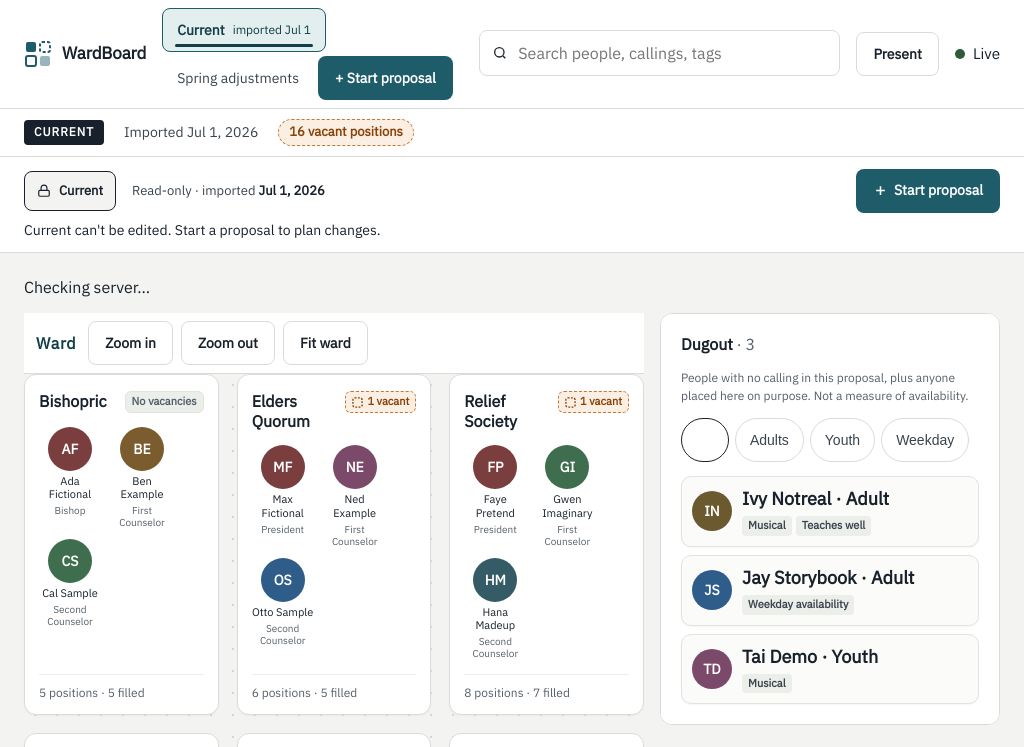
board-levels and removed markers › Aaronic board group renders AaronicView at level 2; others render OrganizationView
Click the tab "Spring adjustments" at [238, 78], box [162,56,314,100]
(page scrolled)
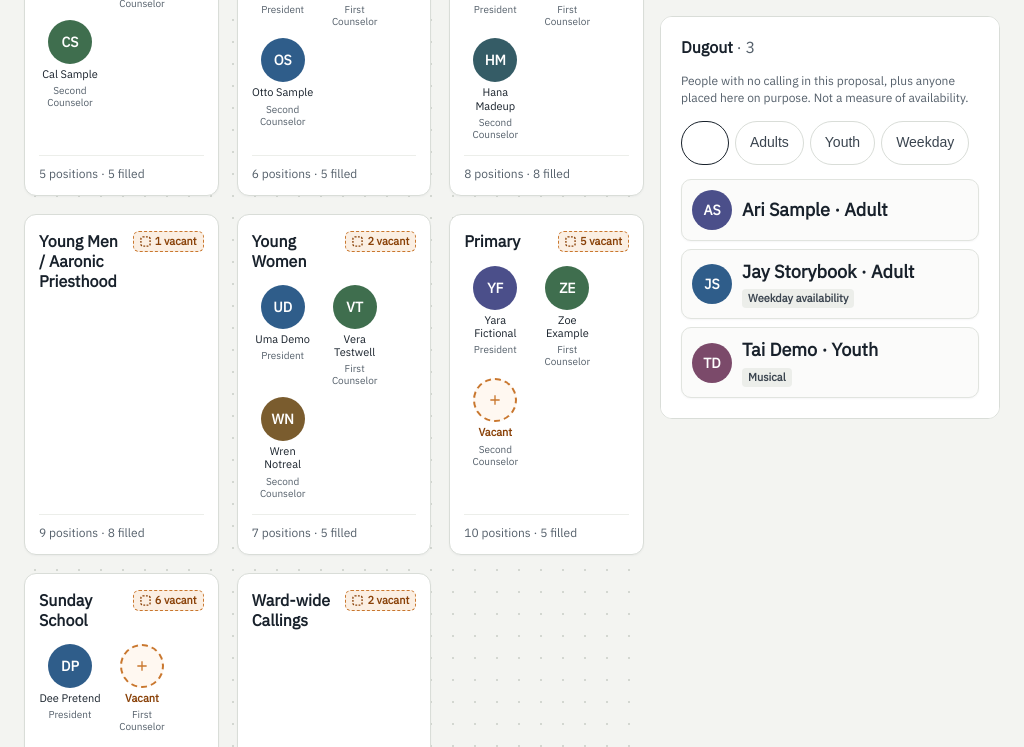
// Zoom into Aaronic Priesthood
Double-click the element "Young Men / Aaronic Priesthood" at [121, 384], box [24,214,219,555]
(page scrolled)
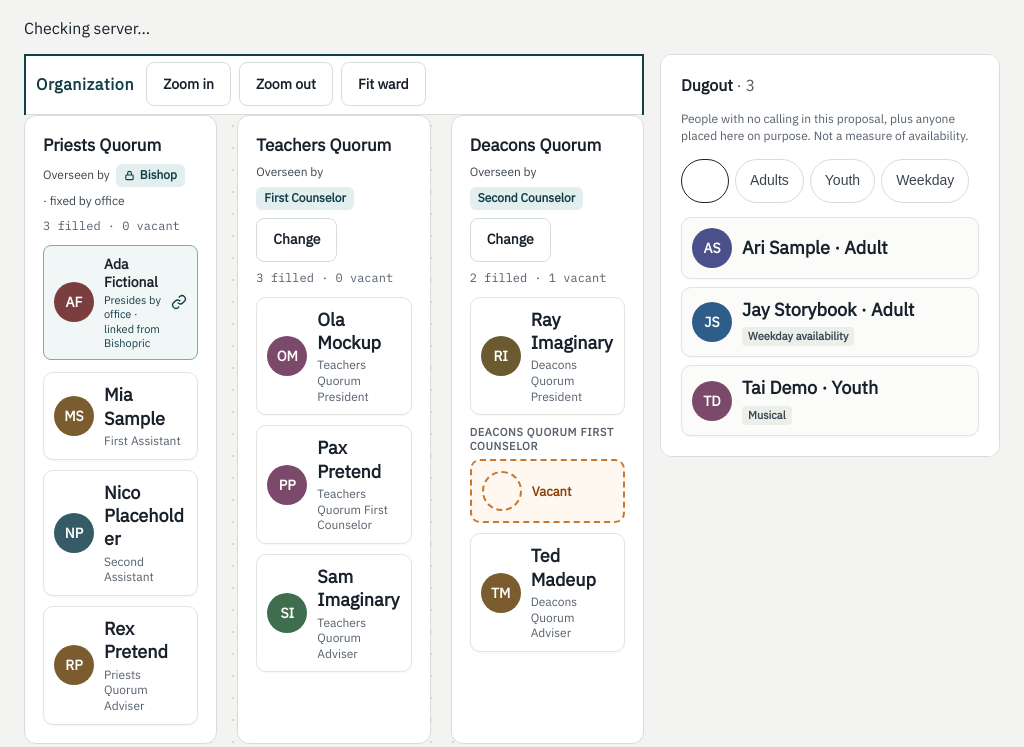
Result: the text with class "wb-canvas-level" reads "Organization" at [36,74,134,94]
Result: the text "Presides by office · linked from Bishopric" is shown at [104,293,161,350]
Result: the element with class "wb-aaronic" is shown at [24,115,644,744]
// Zoom back out to Ward level
Click the button "Fit ward" at [383, 84], box [341,62,426,106]
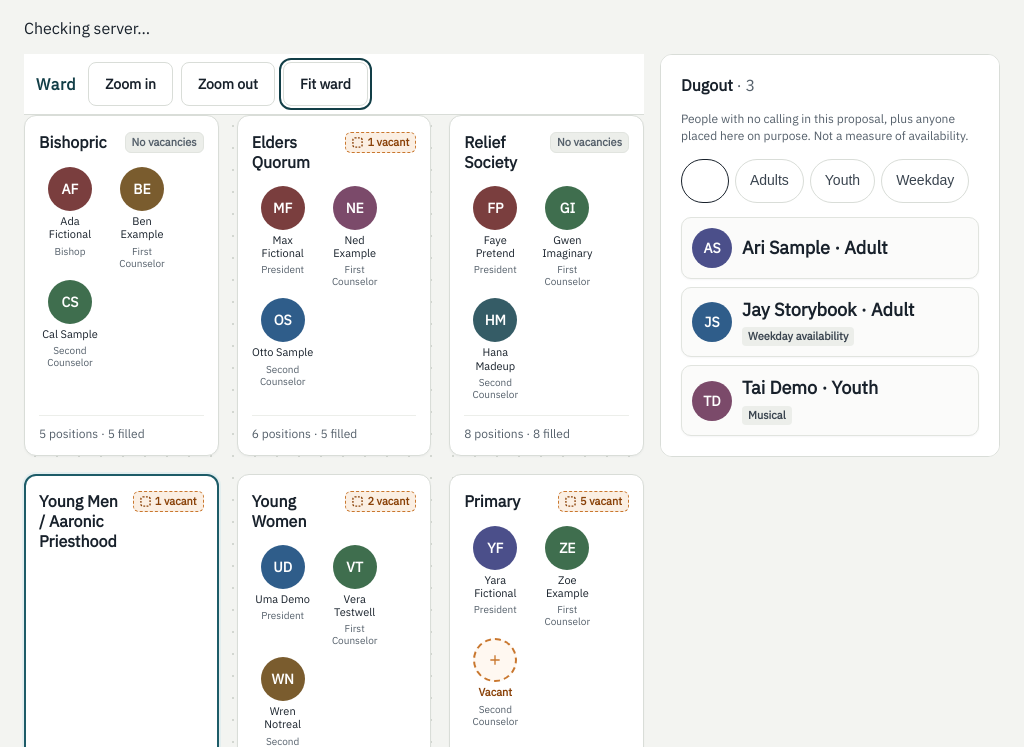
Result: the text with class "wb-canvas-level" reads "Ward" at [36,74,76,94]
// Zoom into Relief Society
Double-click the element "Relief Society" at [547, 285], box [449,115,644,456]
(page scrolled)
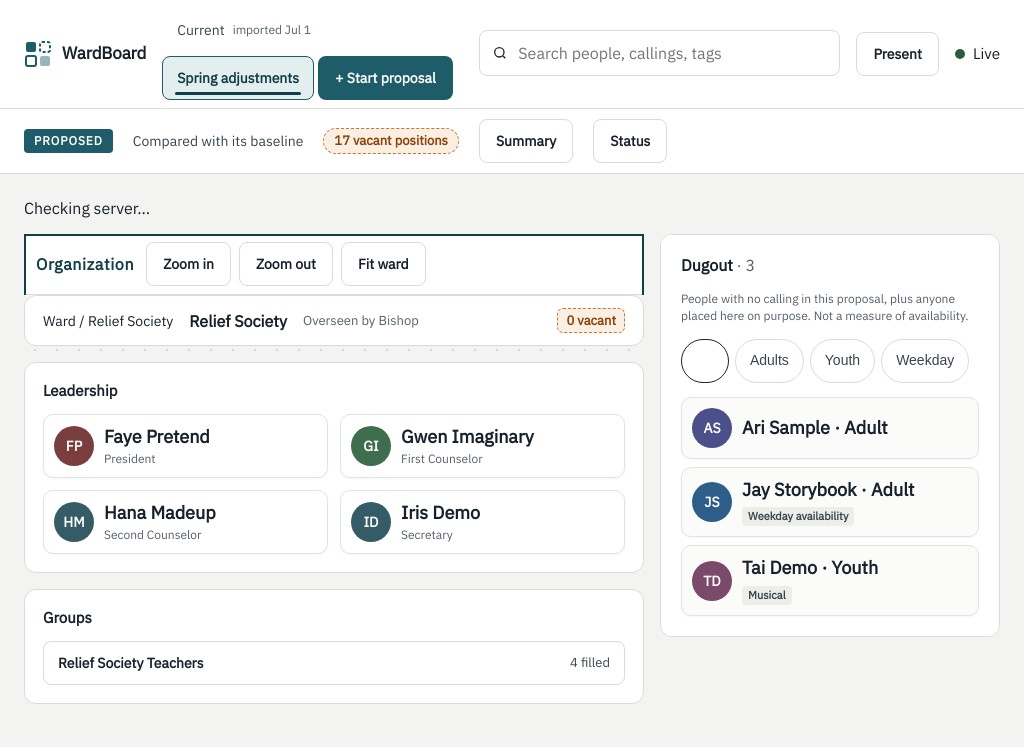
Result: the text with class "wb-canvas-level" reads "Organization" at [36,254,134,274]
Result: the text "Presides by office · linked from Bishopric" is gone
Result: the element with class "wb-org-view" is shown at [24,295,644,704]
